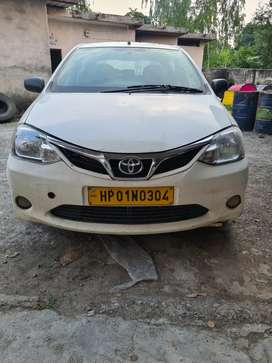HP01N0304: (89, 187, 175, 205)
